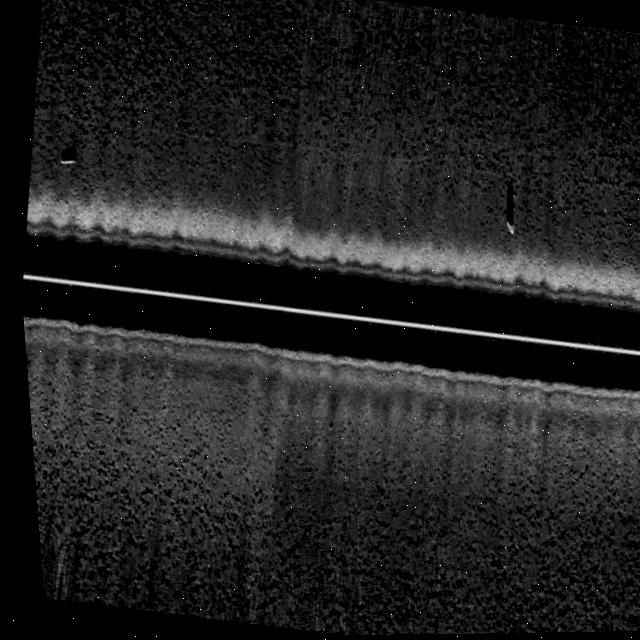mine: (492, 174, 523, 240), (53, 139, 81, 171)
